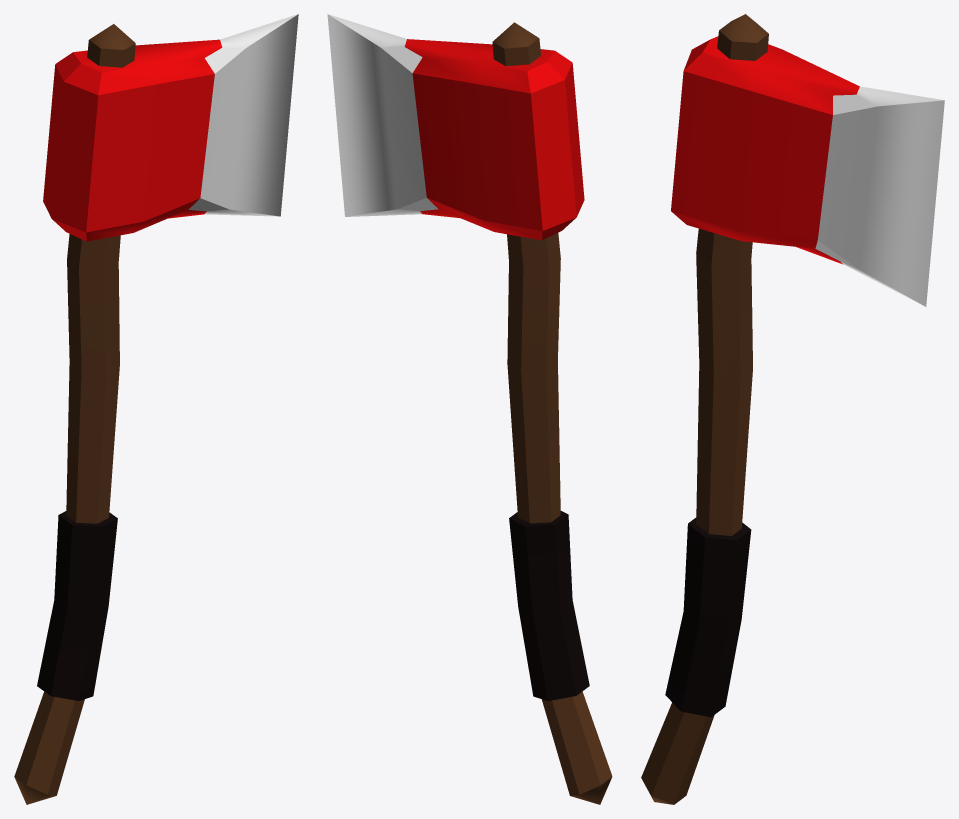
The model's file is ascia.fbx.
3 renders of one model, left to right at view 1: azimuth 30°, elevation 25°; view 2: azimuth 150°, elevation 25°; view 3: azimuth 330°, elevation 25°, orthographic. The views are drawn at different scales.
Parts seen in each view (by area): view 1: Body.001; view 2: Body.001; view 3: Body.001.
Boxes of the visible parts, x1,y1,x2,y2 form: Body.001: (14, 14, 298, 804); Body.001: (327, 14, 612, 804); Body.001: (641, 14, 944, 804).
Size of the model in its own units: 105 by 273 by 27.67.
